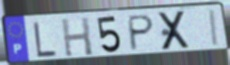5: (96, 15, 122, 54)
H: (60, 16, 95, 59)
I: (209, 8, 221, 48)
L: (32, 20, 59, 58)
P: (127, 14, 156, 53)
X: (157, 9, 192, 52)
